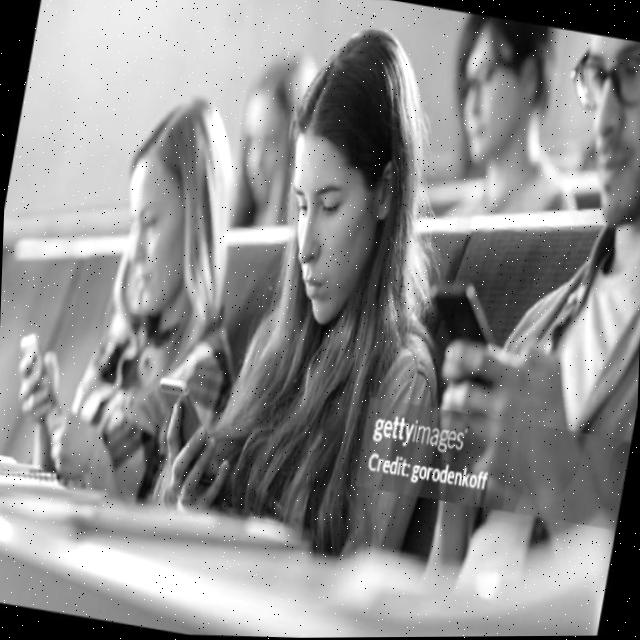phone: (142, 375, 234, 488), (414, 274, 504, 388), (7, 329, 73, 419)
